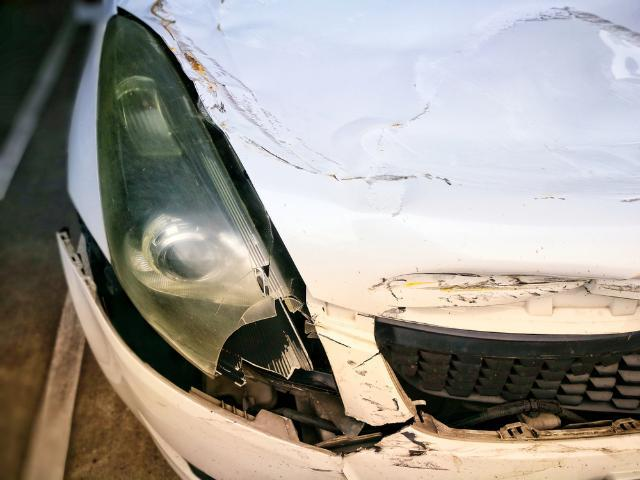crack: (347, 414, 416, 450), (353, 350, 381, 369)
dent: (334, 15, 640, 198)
dislocated part: (57, 191, 350, 461)
lamp broken: (97, 10, 341, 403)
scratch: (149, 0, 371, 184), (370, 268, 640, 305), (359, 429, 461, 471), (347, 360, 405, 423)
